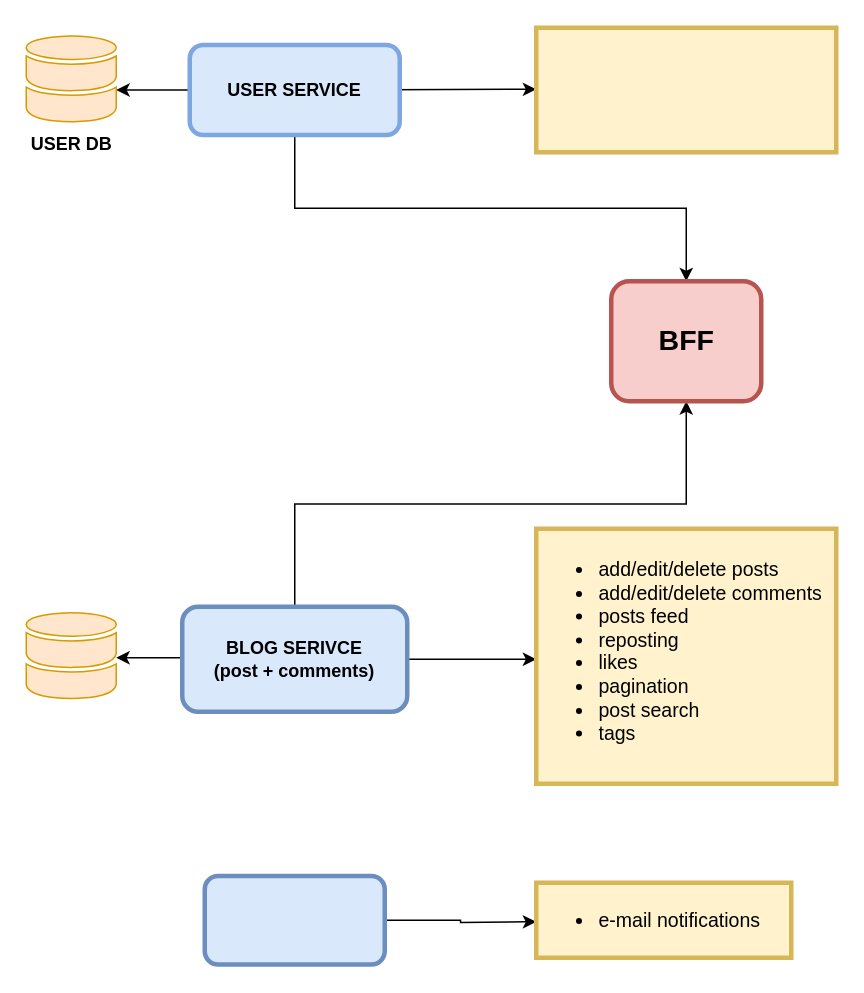
This 864x993 diagram has some shape labels left out. The shapes that lost their labels are listed below. From the top down, each one's box as (x1, y1, x2, y2) in pixels, then its label:
(533, 25, 838, 154): user registration user authorization user data show/update
(25, 611, 116, 700): BLOG DB
(202, 873, 386, 966): NOTIFICATION SERVICE
